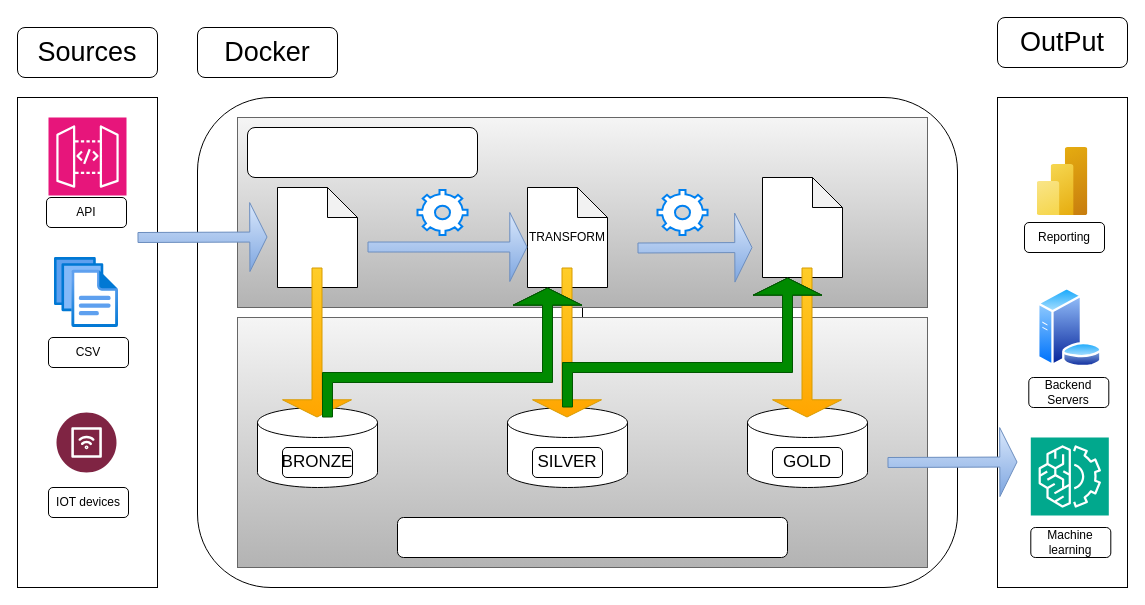
Image size: 1145x605. Some labels were removed from this diagram. The shapes that lost their labels are listed below. From the top down, each one's centre as x and y in pixels, then its label:
At point (362, 152): "Air-Flow DAGS".
At point (317, 237): "EXTRACT".
At point (802, 227): "LOAD".
At point (592, 537): "Postgres - Data Warehouse".
